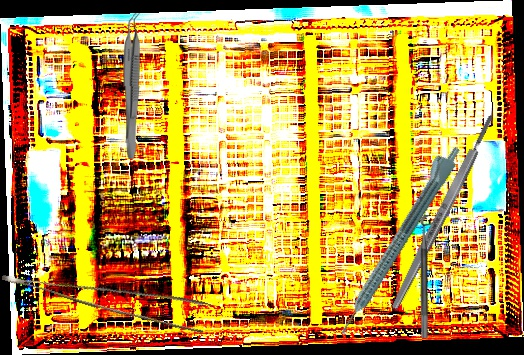Fixation Ring: (420, 215, 439, 338)
Handpiece: (327, 139, 465, 338)
Scalpel Handle: (388, 112, 498, 312)
Tissue Forceps: (1, 240, 212, 344), (122, 13, 145, 159)
